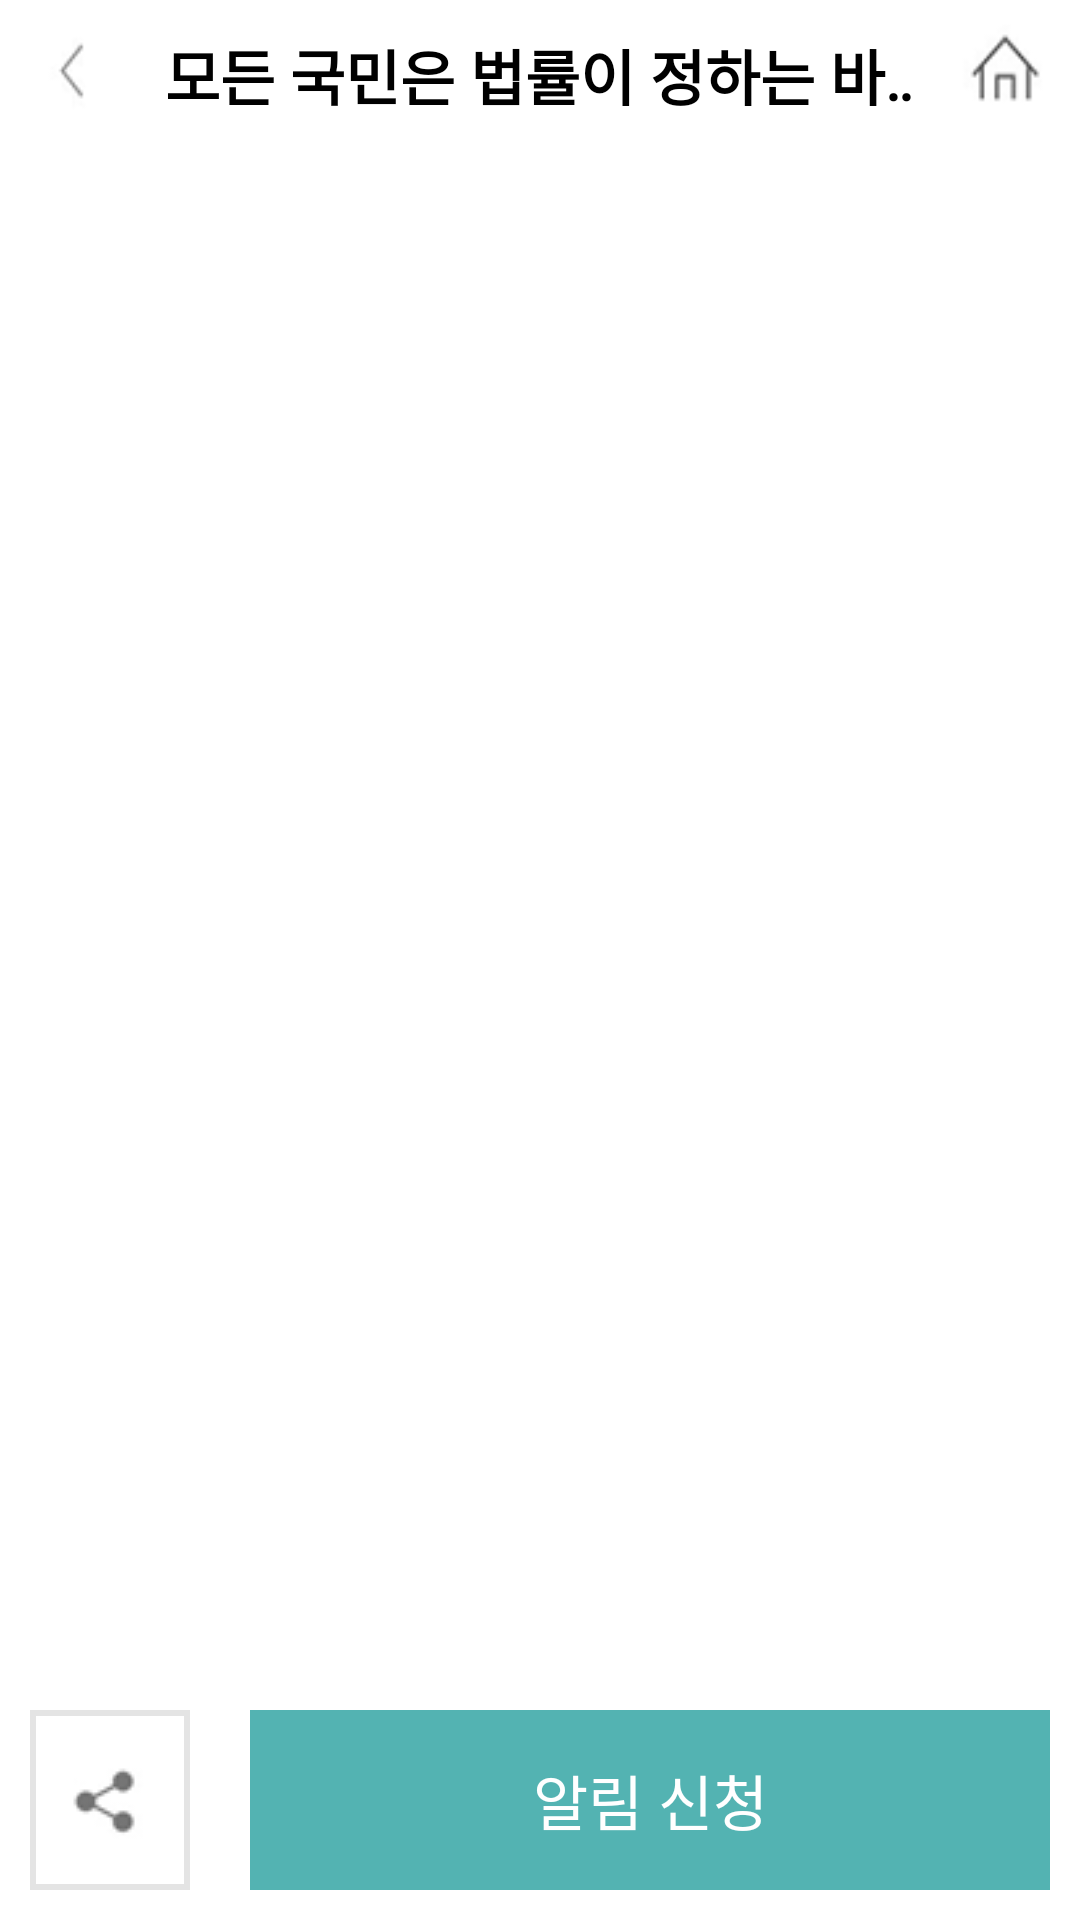

Icons on this 1080x1920 Android screen, each with the point to tap as (x=x, y=y):
back: (x=71, y=71)
home: (x=1005, y=68)
shared: (x=110, y=1800)
